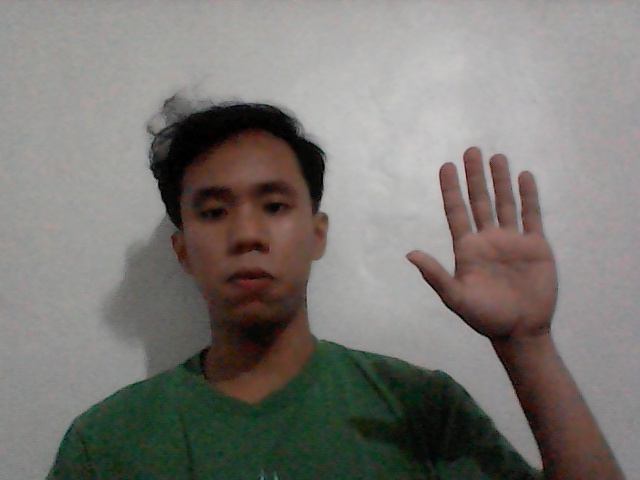Hello: (389, 133, 595, 364)
